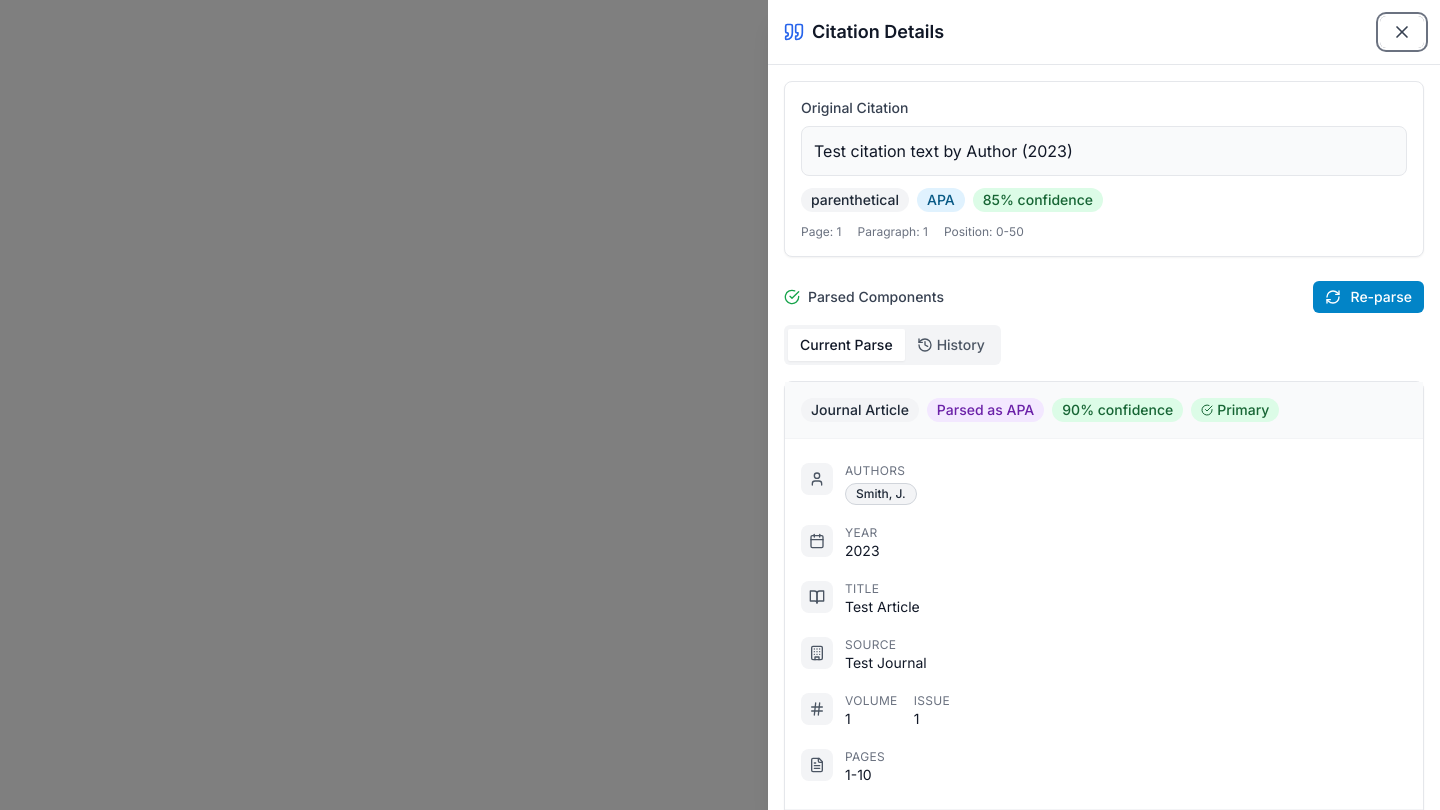
CitationDetail › history tab › should show empty history message
Click the tab "History".
click(951, 345)  # box [905,329,997,361]
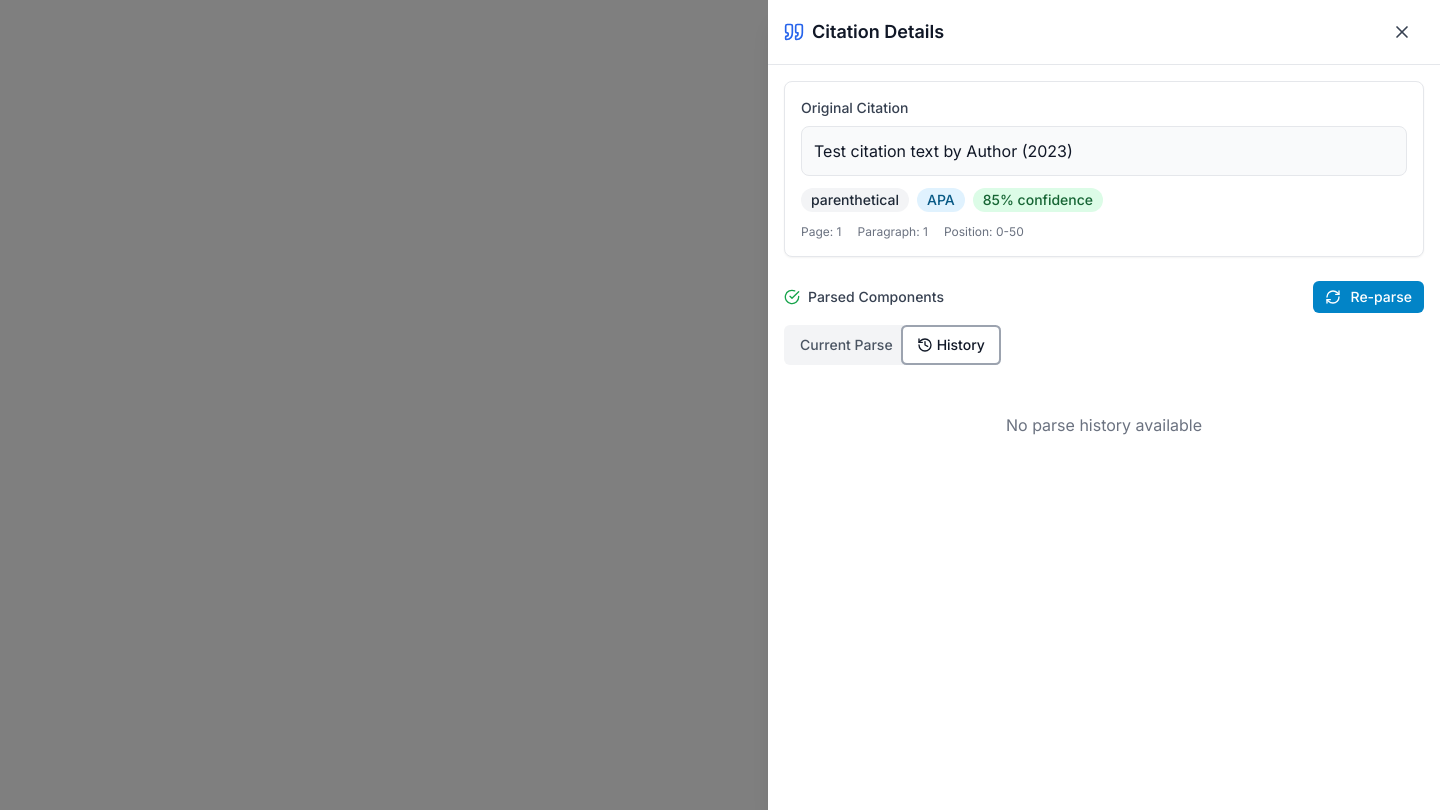
Expected: the text "No parse history available" is shown, [1006,415,1202,435]
